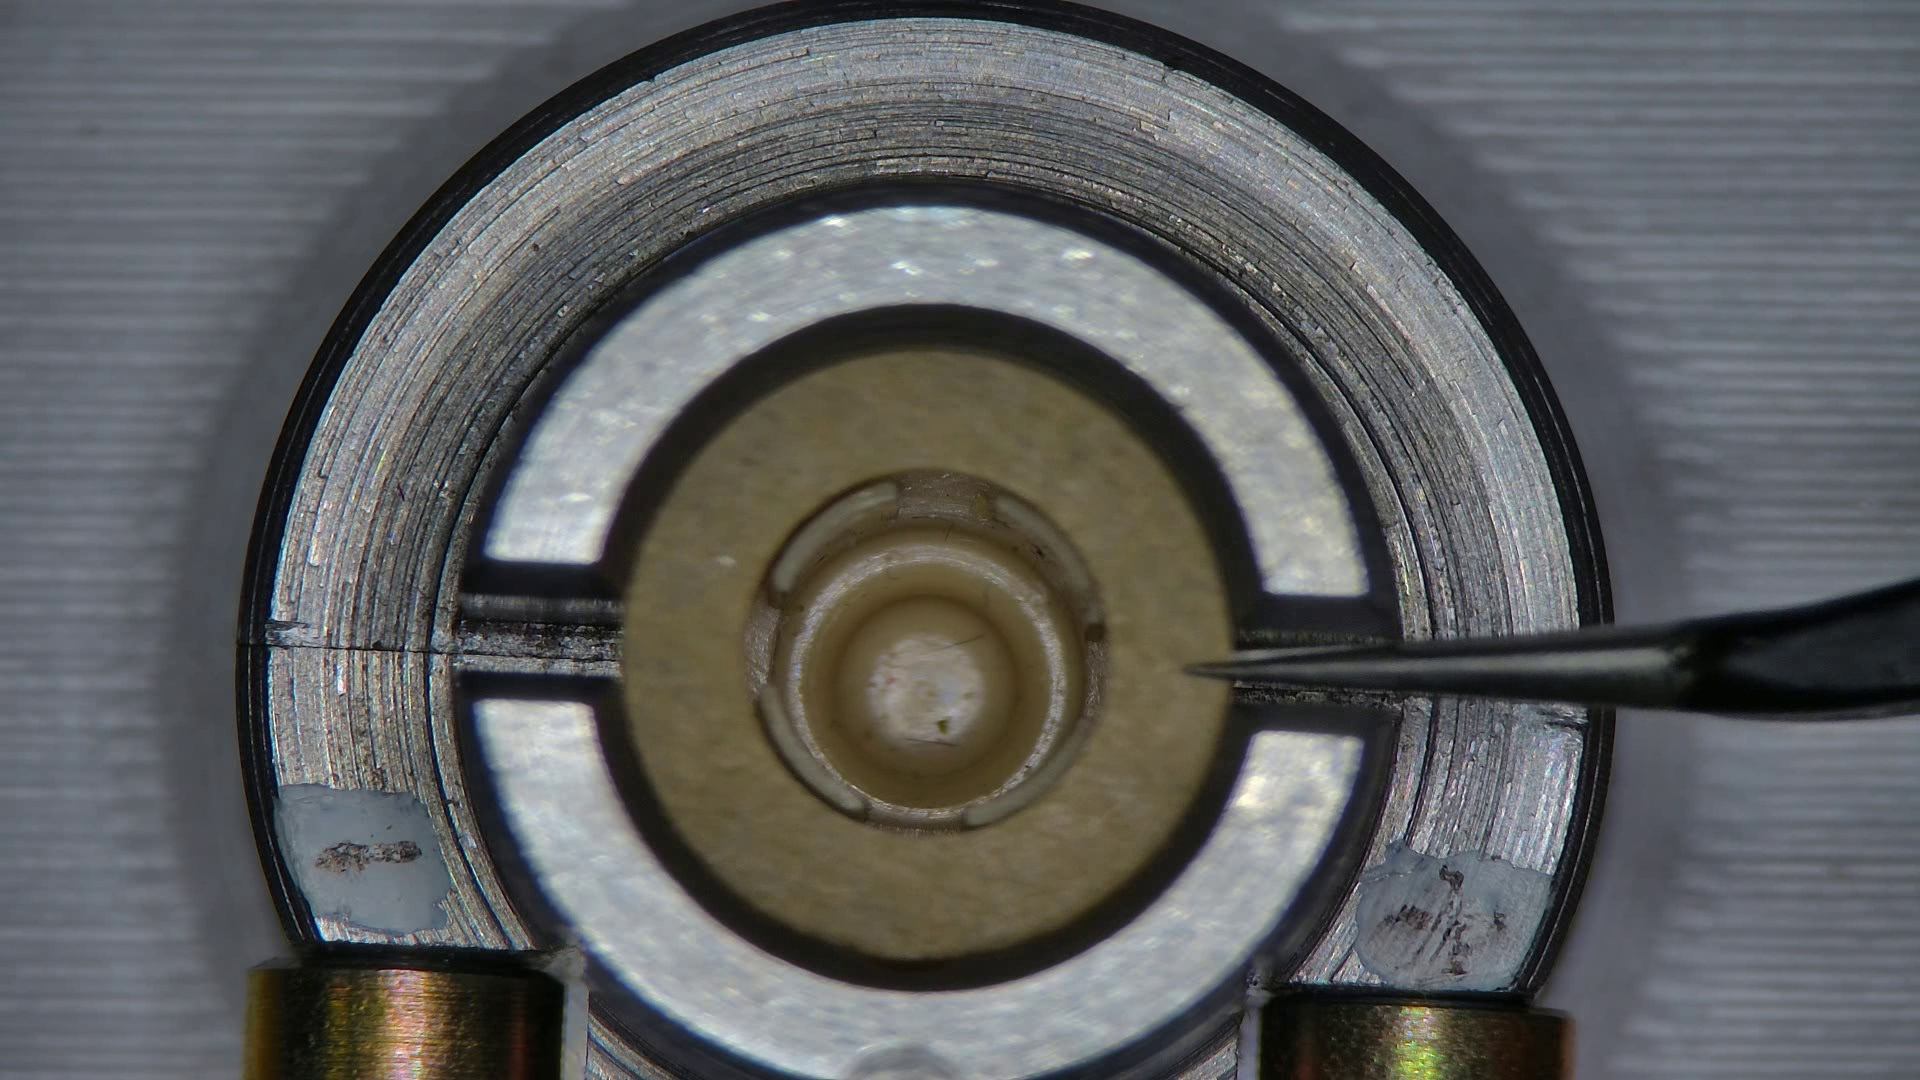redOring: (625, 349, 1229, 957)
